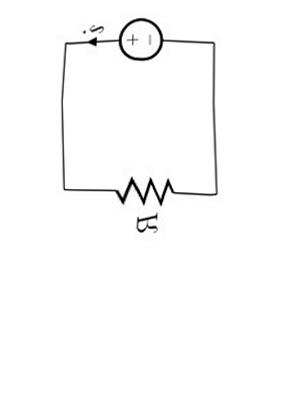Battery: (107, 5, 172, 65)
